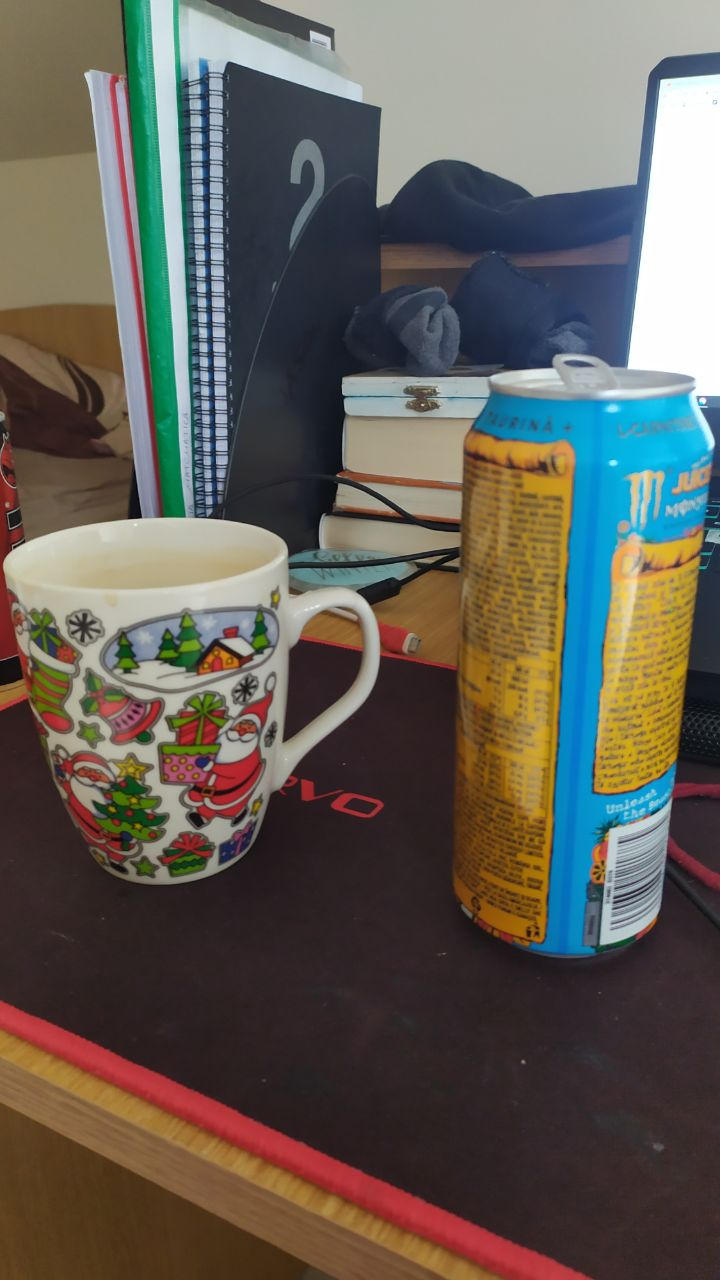Can: (444, 347, 720, 965)
